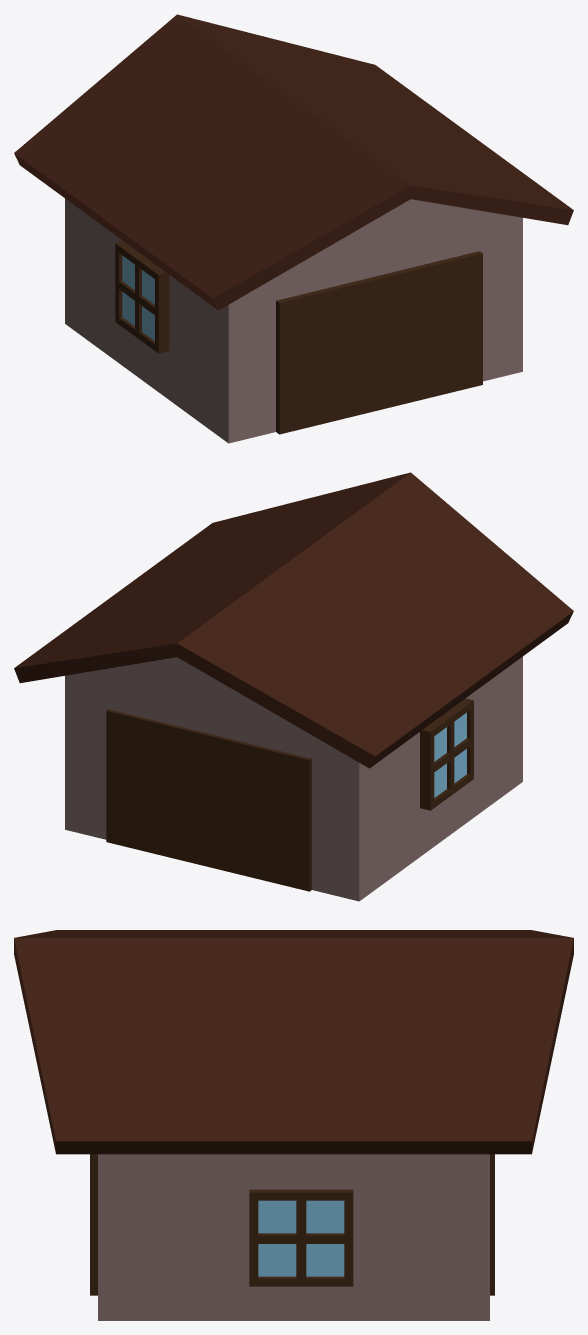
The model's file is House_GarageBig.fbx.
The picture shows the model from 3 angles, top to bottom: view 1: azimuth 30°, elevation 25°; view 2: azimuth 150°, elevation 25°; view 3: azimuth 270°, elevation 25°; orthographic projection. The views are drawn at different scales.
Visible parts, largest first — view 1: House_GarageBig; view 2: House_GarageBig; view 3: House_GarageBig.
Boxes of the visible parts, box(x1,y1,x2,y2) form: House_GarageBig: box(14, 14, 573, 443); House_GarageBig: box(14, 472, 573, 901); House_GarageBig: box(14, 930, 573, 1320).
Size of the model in its own units: 34.71 by 22.76 by 38.88.
